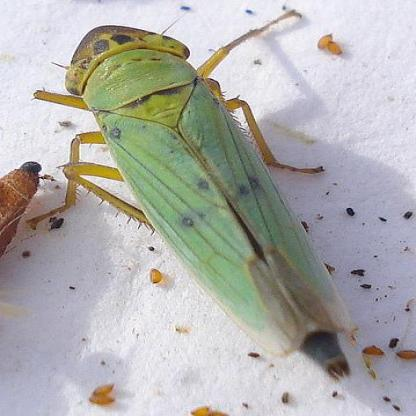Green-Leafhopper: (30, 8, 356, 380)
